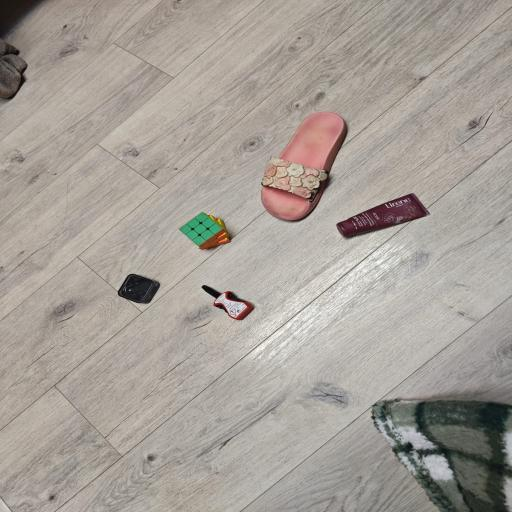Crema Maini: (336, 190, 430, 244)
Rubiks Cube: (179, 214, 228, 248)
Super Glue: (192, 282, 252, 319)
